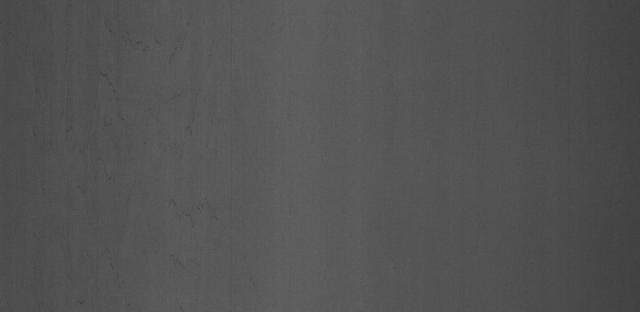silk_spot: (89, 29, 223, 117), (147, 198, 244, 280)
